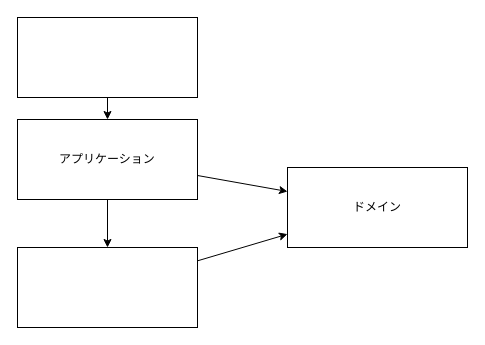
The diagram is 485 pixels wide and 345 high, and some of its shapes have lost their labels. Here are the shapes that lost their labels. From the top down, the centre of each, then its label:
point 107,57: プレゼンテーション
point 107,287: リポジトリ
